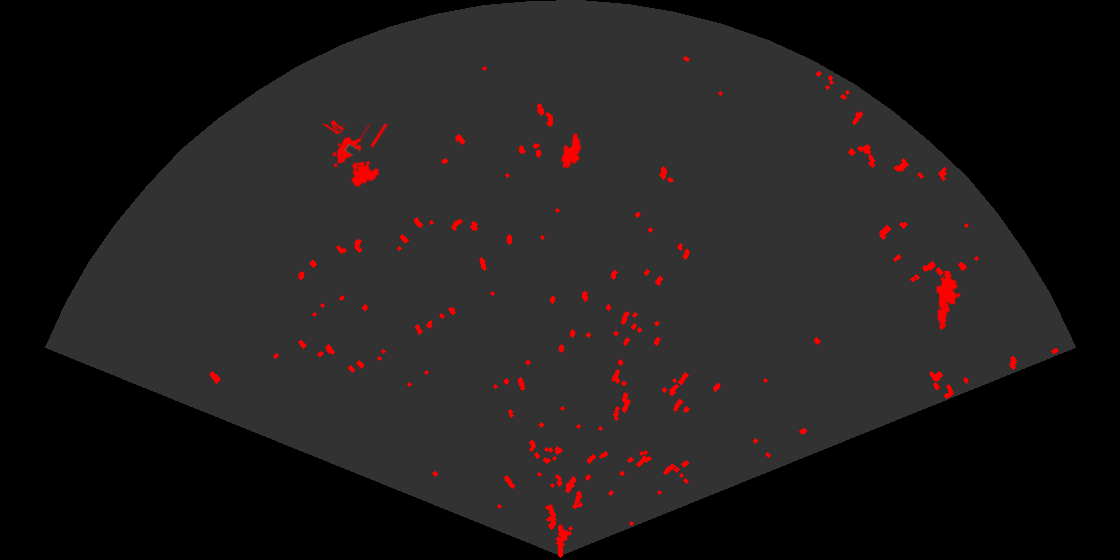AUV: (559, 131, 583, 170)
cage: (321, 124, 390, 188)
frogman: (934, 271, 963, 332)
